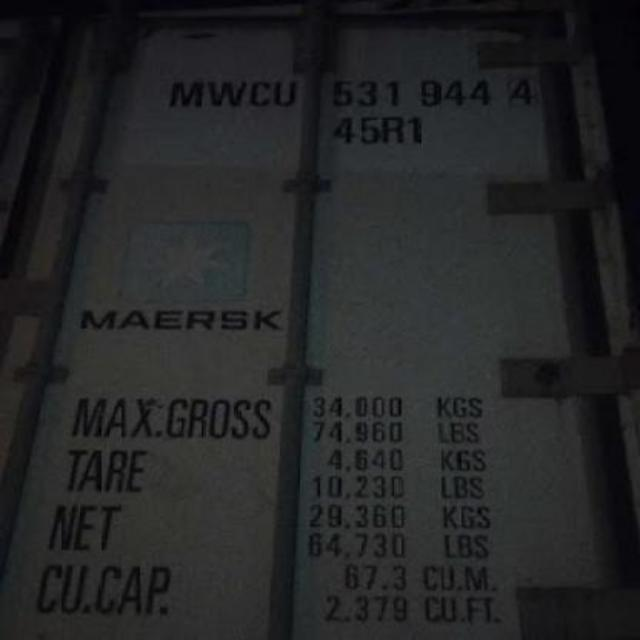1: (384, 80, 402, 110)
3: (358, 78, 379, 108)
4: (470, 74, 494, 108), (444, 77, 468, 107), (512, 76, 532, 104)
5: (330, 79, 354, 109)
9: (418, 78, 442, 108)
C: (250, 77, 272, 106)
M: (168, 76, 204, 108)
U: (276, 78, 300, 108)
W: (208, 77, 246, 106)
